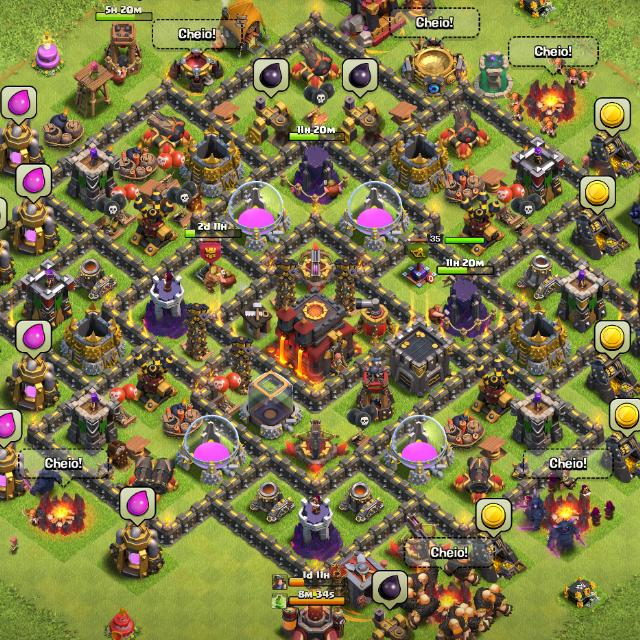Elixir: (15, 163, 52, 204), (15, 319, 52, 360), (119, 486, 156, 526), (1, 86, 37, 126), (0, 409, 22, 450)
ElixirNegro: (342, 57, 379, 100), (253, 57, 290, 99), (372, 571, 408, 612)
coin: (594, 96, 631, 138), (594, 320, 632, 360), (475, 498, 512, 539), (580, 174, 617, 215), (609, 398, 640, 438)
